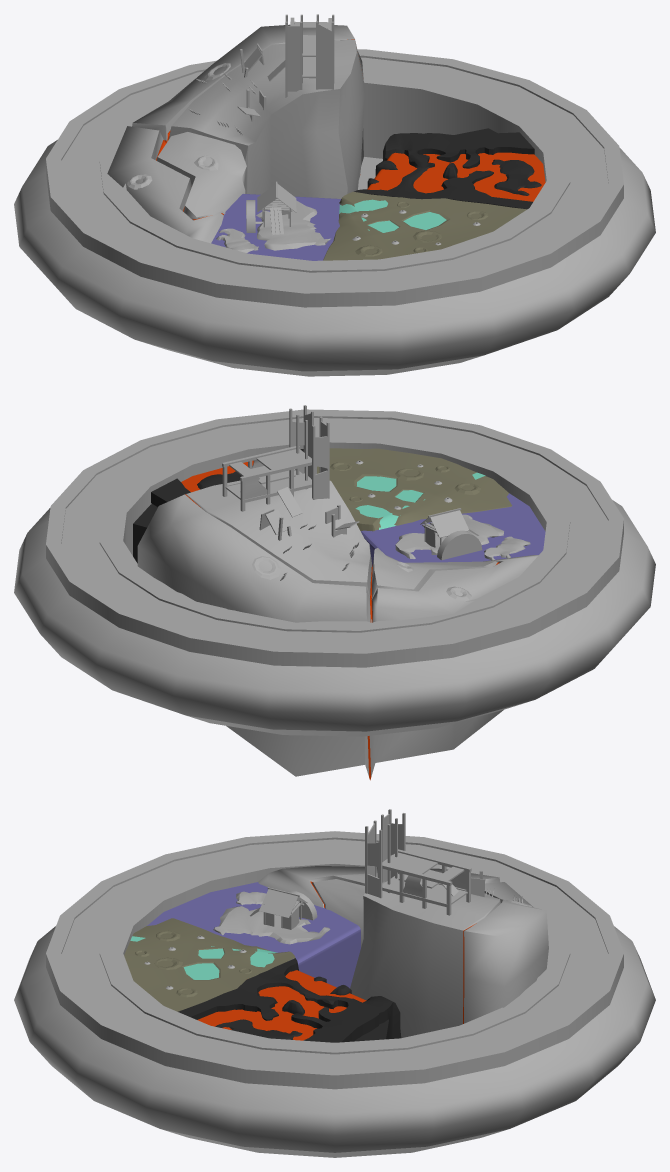
The model's file is LevelIteration1.fbx.
3 renders of one model, top to bottom at view 1: azimuth 30°, elevation 25°; view 2: azimuth 150°, elevation 25°; view 3: azimuth 270°, elevation 25°, orthographic.
Visible parts, largest first — view 1: pCylinder47, polySurface28, polySurface2, polySurface1, pCube2, pCube1, pCube16, pPlane5, pCube12, pCube42, pCube41, pCube17; view 2: pCylinder47, polySurface28, polySurface2, pCube1, pPlane5, pCube16, polySurface1, pCylinder60, pCube85, polySurface4, pCube17; view 3: pCylinder47, polySurface28, polySurface2, polySurface1, pCube1, pCube2, pCube16, pPlane5, pCube86, pCube12, polySurface4, polySurface6.
Part boxes in pixels (left/top/right/bottom): pCylinder47: left=14, top=49, right=655, bottom=376; polySurface28: left=107, top=24, right=364, bottom=243; polySurface2: left=323, top=191, right=526, bottom=260; polySurface1: left=354, top=128, right=534, bottom=209; pCube2: left=367, top=152, right=545, bottom=201; pCube1: left=211, top=194, right=340, bottom=260; pCube16: left=256, top=200, right=330, bottom=250; pPlane5: left=339, top=199, right=446, bottom=232; pCube12: left=492, top=159, right=541, bottom=195; pCube42: left=318, top=24, right=331, bottom=89; pCube41: left=287, top=26, right=299, bottom=91; pCube17: left=216, top=228, right=258, bottom=252; pCylinder47: left=14, top=409, right=655, bottom=736; polySurface28: left=137, top=473, right=538, bottom=776; polySurface2: left=317, top=448, right=512, bottom=531; pCube1: left=361, top=493, right=545, bottom=566; pPlane5: left=355, top=472, right=485, bottom=529; pCube16: left=395, top=514, right=503, bottom=558; polySurface1: left=133, top=449, right=303, bottom=563; pCylinder60: left=437, top=530, right=482, bottom=560; pCube85: left=430, top=510, right=469, bottom=537; polySurface4: left=256, top=449, right=311, bottom=469; pCube17: left=484, top=536, right=530, bottom=560; pCylinder47: left=14, top=831, right=655, bottom=1157; polySurface28: left=258, top=866, right=548, bottom=1037; polySurface2: left=124, top=918, right=299, bottom=1011; polySurface1: left=178, top=958, right=401, bottom=1042; pCube1: left=147, top=882, right=360, bottom=988; pCube2: left=197, top=970, right=366, bottom=1040; pCube16: left=213, top=906, right=330, bottom=944; pPlane5: left=130, top=936, right=277, bottom=979; pCube86: left=259, top=889, right=298, bottom=917; pCube12: left=215, top=1019, right=302, bottom=1039; polySurface4: left=382, top=852, right=437, bottom=874; polySurface6: left=382, top=874, right=467, bottom=904.
Size of the model in its own units: 108 by 54.78 by 108.
